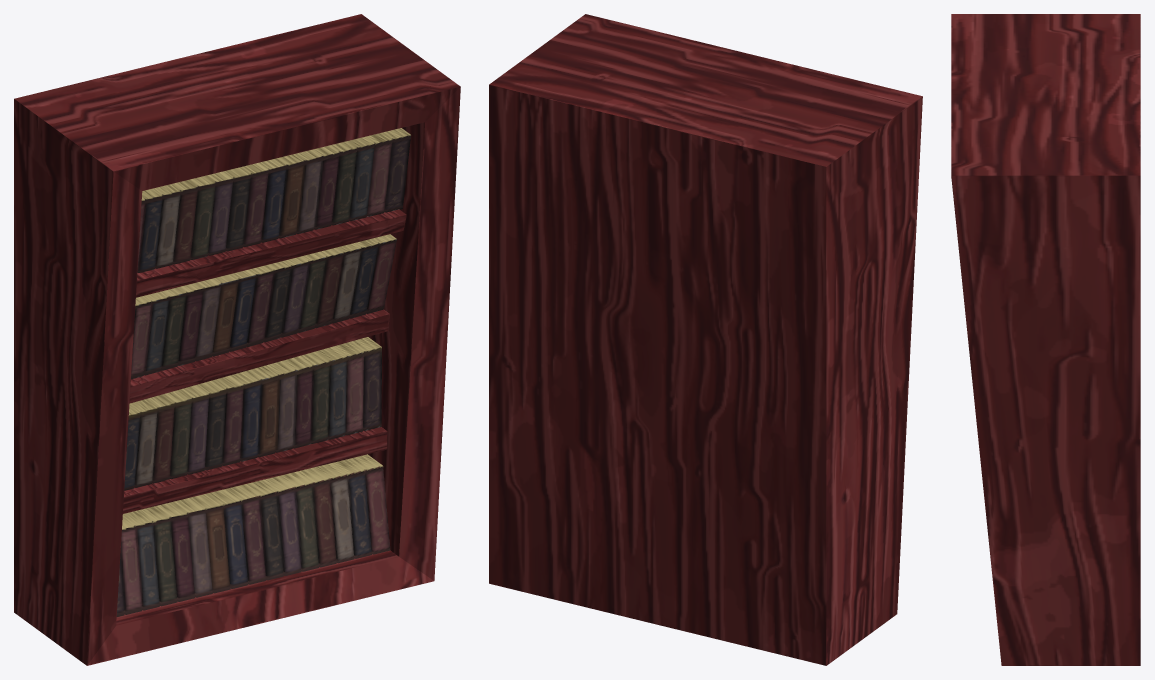
The model's file is bookshelf.fbx.
3 views of the same model, side by side, from view 1: azimuth 30°, elevation 25°; view 2: azimuth 150°, elevation 25°; view 3: azimuth 270°, elevation 25° (orthographic). The views are drawn at different scales.
Visible parts, largest first — view 1: Bookshelf; view 2: Bookshelf; view 3: Bookshelf.
Part boxes in pixels (box(x1,y1,x2,y2)): Bookshelf: box(14, 14, 460, 665); Bookshelf: box(489, 14, 922, 665); Bookshelf: box(951, 14, 1140, 665).
Size of the model in its own units: 301 by 425 by 149.
1 material, 1 textured.
